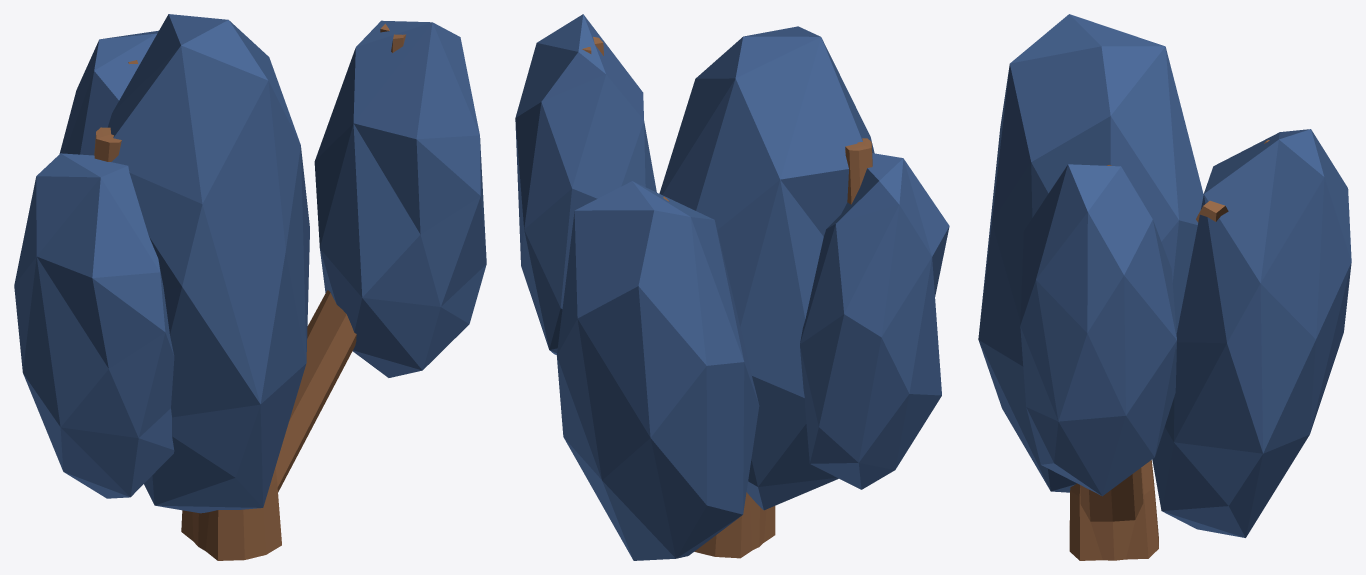
File: tree-winter-complete-13-005.glb
3 renders of one model, left to right at view 1: azimuth 30°, elevation 25°; view 2: azimuth 150°, elevation 25°; view 3: azimuth 270°, elevation 25°, orthographic. The views are drawn at different scales.
Visible parts, largest first — view 1: TREE 13.005_191, TREE 13.004_192; view 2: TREE 13.005_191, TREE 13.004_192; view 3: TREE 13.005_191, TREE 13.004_192.
Boxes of the visible parts, left/top/right/bottom form: TREE 13.005_191: left=14, top=14, right=486, bottom=513; TREE 13.004_192: left=94, top=23, right=406, bottom=560; TREE 13.005_191: left=515, top=14, right=949, bottom=560; TREE 13.004_192: left=582, top=37, right=872, bottom=558; TREE 13.005_191: left=978, top=14, right=1351, bottom=537; TREE 13.004_192: left=1069, top=140, right=1269, bottom=560.
Size of the model in its own units: 0.9813 by 1.14 by 0.7767.
